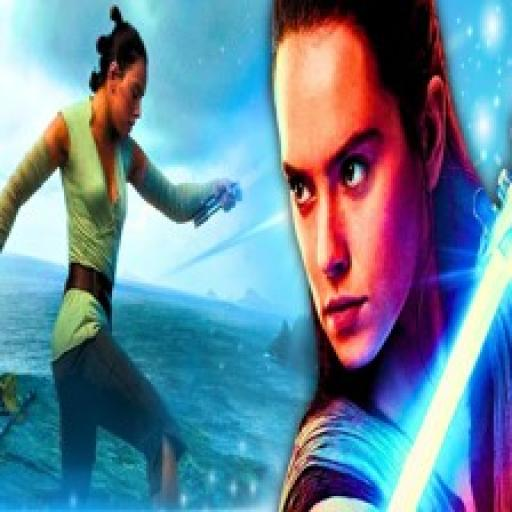human: (261, 1, 512, 512), (0, 11, 245, 512)
lightsaber: (380, 161, 509, 512)
